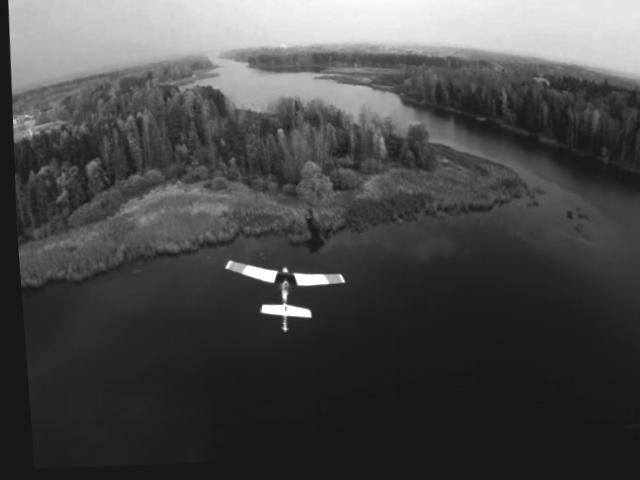hedef: (213, 247, 348, 350)
